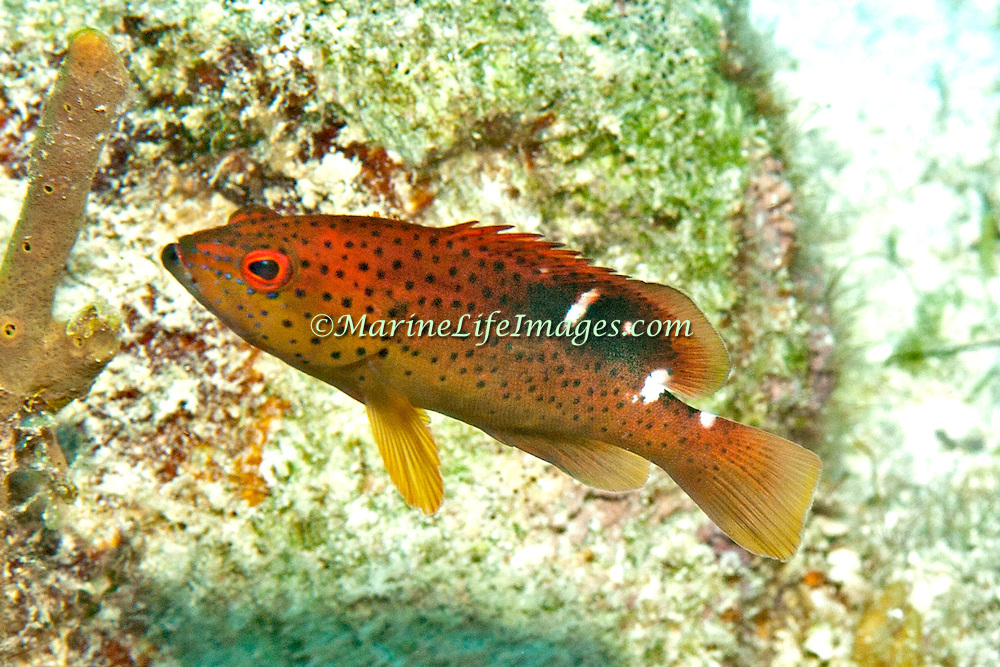Cephalopholis_fulvaw: (151, 189, 835, 570)
